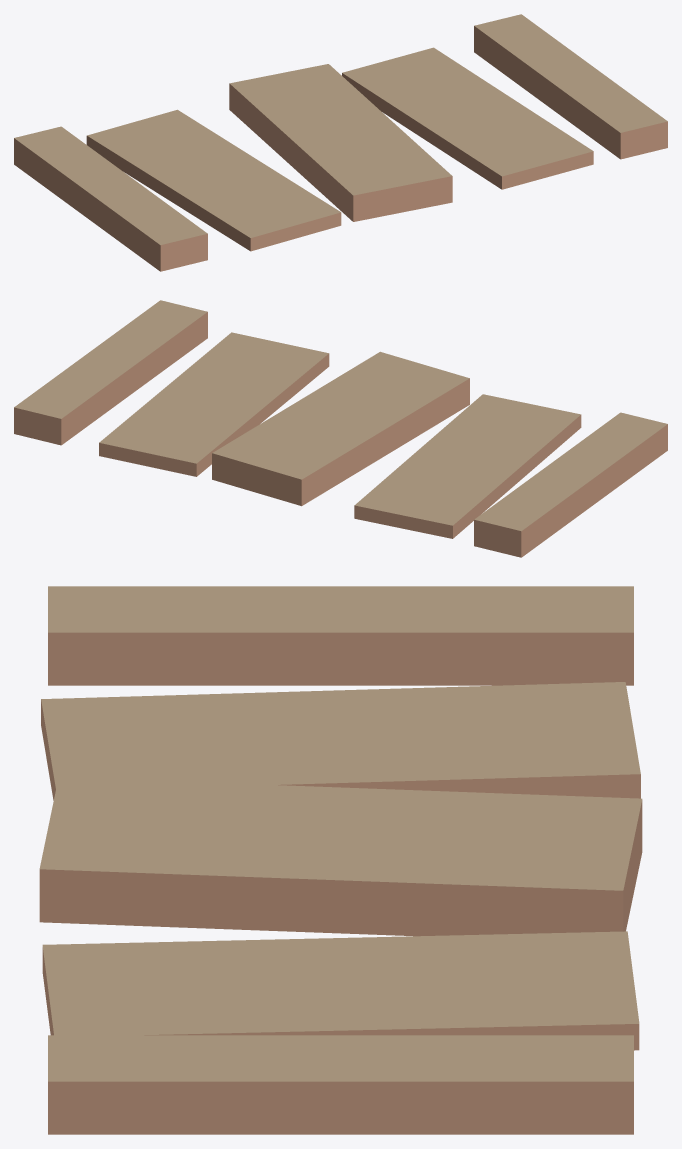
The model's file is path_wood.glb.
3 views of the same model, one above another, from view 1: azimuth 30°, elevation 25°; view 2: azimuth 150°, elevation 25°; view 3: azimuth 270°, elevation 25° (orthographic). The views are drawn at different scales.
Parts seen in each view (by area): view 1: path_wood; view 2: path_wood; view 3: path_wood.
Boxes of the visible parts, x1=… form: path_wood: x1=14, y1=14, x2=667, y2=271; path_wood: x1=14, y1=300, x2=667, y2=557; path_wood: x1=39, y1=586, x2=642, y2=1134.
Bounding box in the file's own units: 1 × 0.05 × 0.5144.
